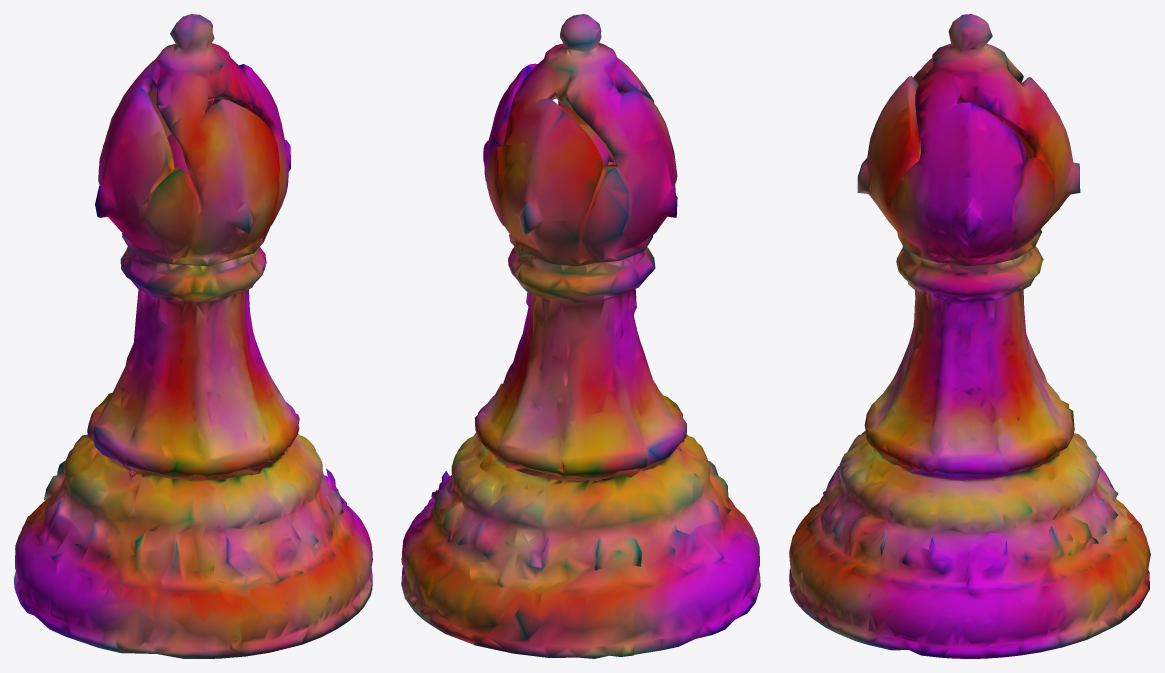
Rendered from bishop.glb.
3 views of the same model, side by side, from view 1: azimuth 30°, elevation 25°; view 2: azimuth 150°, elevation 25°; view 3: azimuth 270°, elevation 25° (orthographic).
Parts seen in each view (by area): view 1: geometry_0; view 2: geometry_0; view 3: geometry_0.
Boxes of the visible parts, x1,y1,x2,y2 form: geometry_0: (14,14,372,658); geometry_0: (401,14,760,658); geometry_0: (789,14,1150,658).
Size of the model in its own units: 0.576 by 1 by 0.577.
